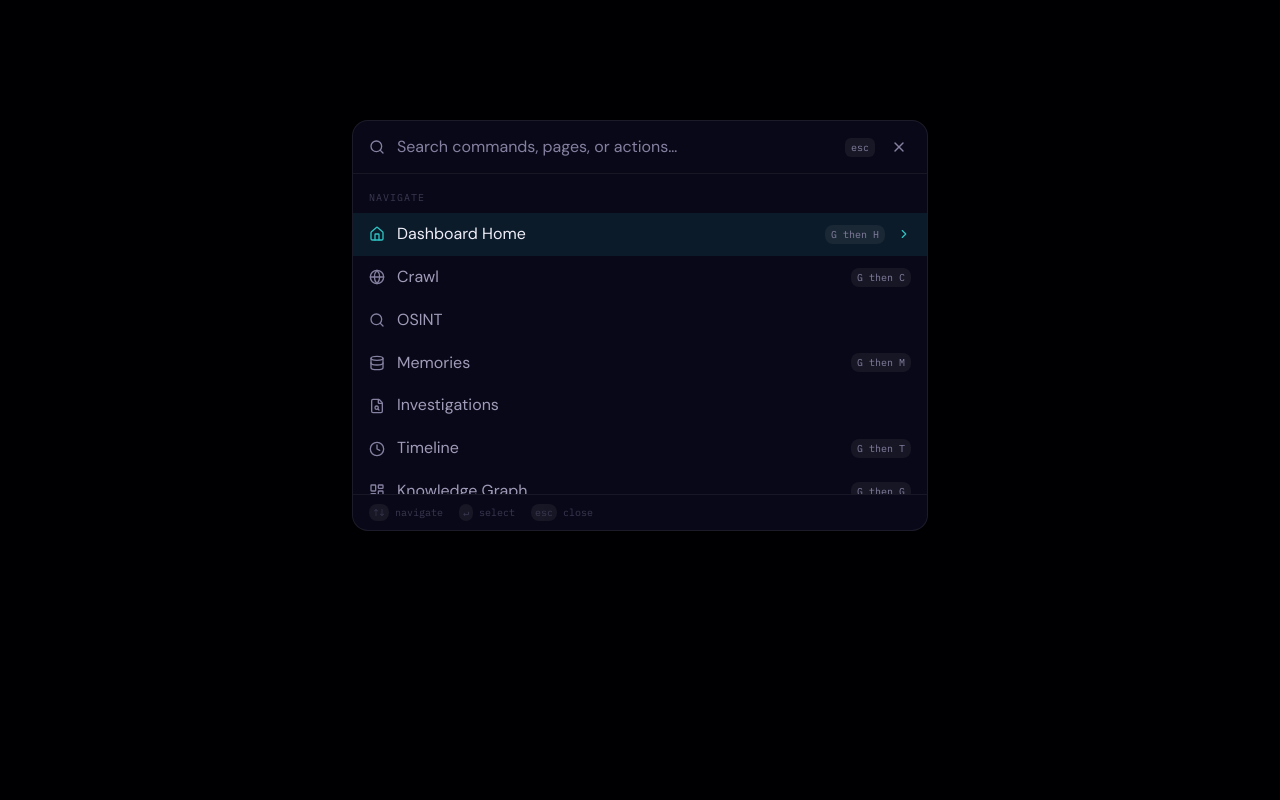
Test: CommandPalette › shows empty state when no results match search
The width and height of the screenshot is (1280, 800).
Type "nonexistent-command-xyz" into the dropdown.
click(615, 147); type("nonexistent-command-xyz")  # box x1=397 y1=136 x2=833 y2=158
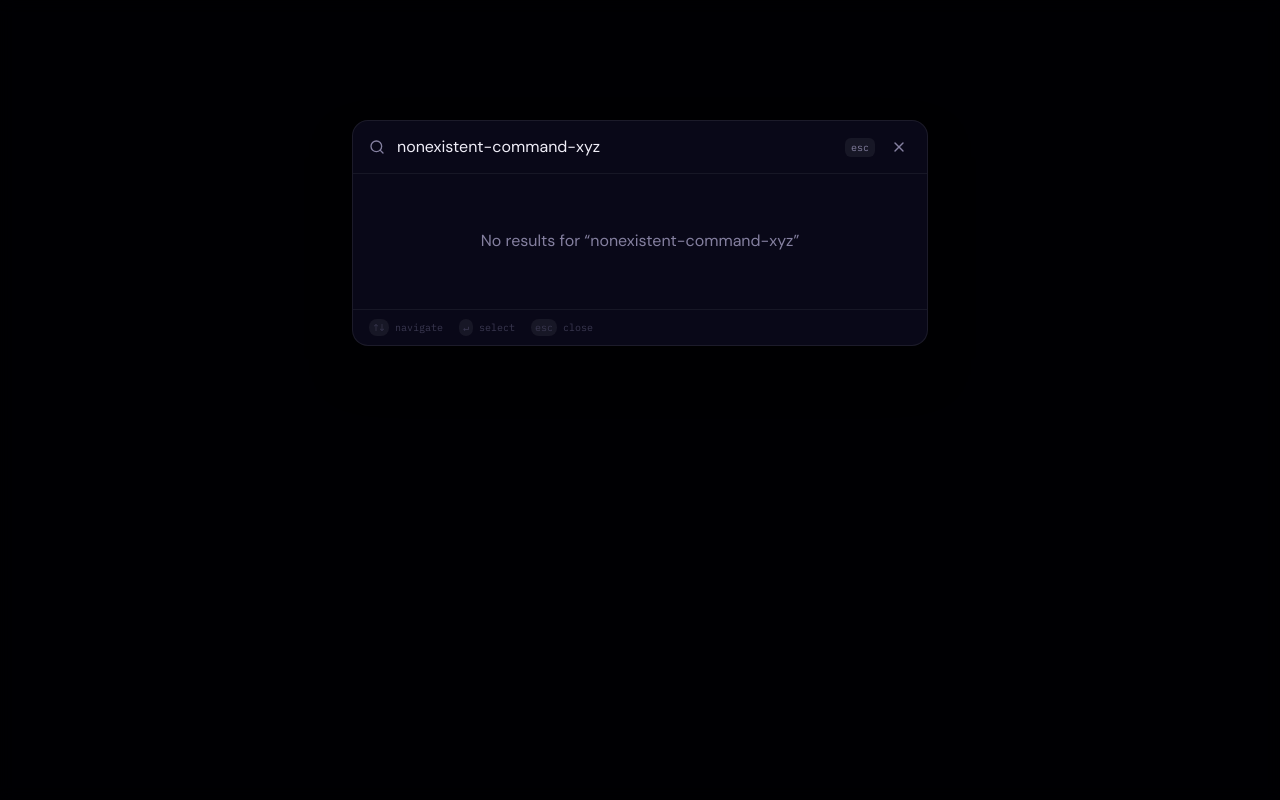
expect the text "No results for “nonexistent-command-xyz”" is shown: met, box x1=481 y1=230 x2=799 y2=251
